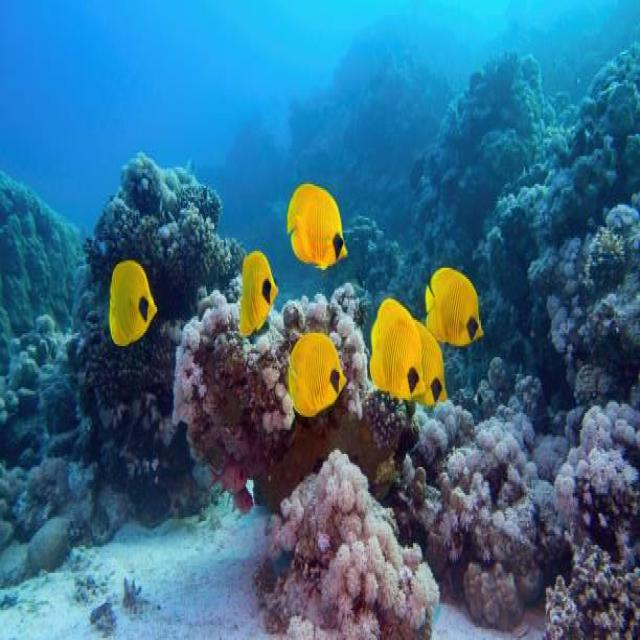ButterflyFish: (284, 176, 350, 272), (369, 300, 425, 404), (285, 329, 346, 417), (425, 264, 486, 350), (108, 255, 157, 350), (240, 250, 278, 340), (417, 320, 450, 411)
